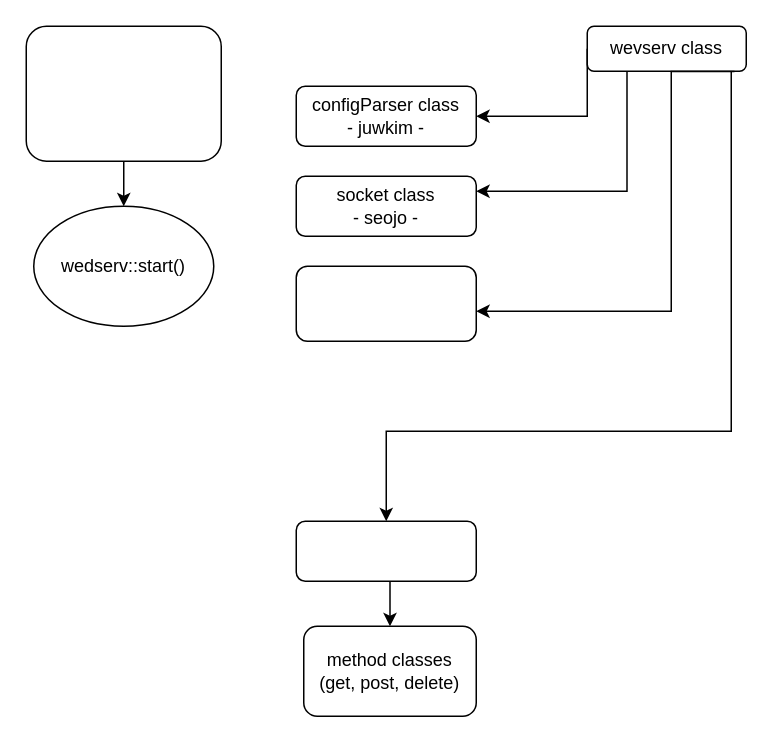
The diagram is 774 pixels wide and 743 high, and some of its shapes have lost their labels. The box of each missing label's shape, as (x1, y1, x2, y2) in pixels:
HTTPParser class: (295, 520, 476, 581)
i/o multiflexing class epoll(), kqueue(): (295, 265, 476, 341)
main: (25, 25, 221, 161)
